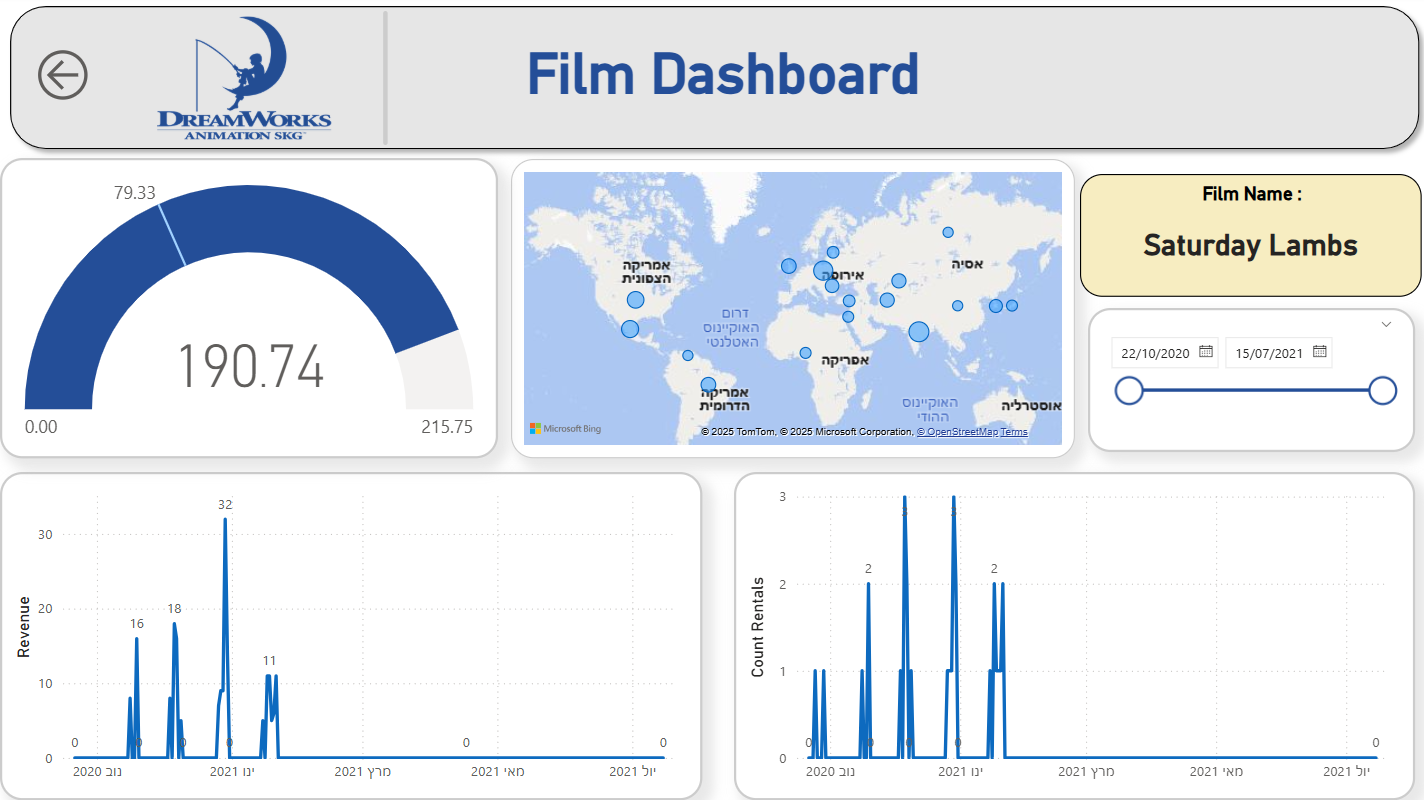

The dashboard page shown, as its layout file describes it:
{"tool":"powerbi","page":{"name":"Film Dashboard","canvas":[1280,720],"ordinal":1},"visuals":[{"type":"shape","box":[0,0,1280.5,146.3],"z":0},{"type":"textbox","box":[466.8,35.1,485.9,76.1],"z":1000},{"type":"shape","box":[319,13.2,52.7,120],"z":2000},{"type":"map","fields":{"Category":["dim_customer.dim_country.country"],"Size":["MSR.sum_sales Q.6"]},"box":[458,146.3,504.9,267.8],"z":3000},{"type":"card","title":"Film Name :","fields":{"Values":["Min(dim_film.film_title)"]},"box":[967.3,159.5,305.9,109.8],"z":4000},{"type":"slicer","fields":{"Values":["dim_date.full_date"]},"box":[974.6,279.5,292.7,128.8],"z":5000},{"type":"lineChart","fields":{"Y":["MSR.sum_sales_coalesce"],"Category":["dim_date.full_date"]},"box":[0,425.9,629.3,294.1],"z":6000},{"type":"gauge","fields":{"Y":["MSR.sum_sales Q.6"],"TargetValue":["MSR.target_gauge"],"MaxValue":["MSR.max_sales"]},"box":[0,144.9,446.3,269.3],"z":7000},{"type":"lineChart","fields":{"Category":["dim_date.full_date"],"Y":["MSR.count_renal_coalesce"]},"box":[657.1,425.9,610.2,294.1],"z":8000},{"type":"actionButton","box":[27.8,41,57.1,60],"z":9000},{"type":"image","box":[122.9,13.2,191.7,120],"z":10000}]}

Visuals, with their boxes in screenshot pixels (x1, y1, x2, y2), scaled from the page's 1280x720 canvas onto the 1424x800 screenshot:
shape: Rect(0, 0, 1423, 163)
textbox: Rect(519, 39, 1060, 124)
shape: Rect(355, 15, 414, 148)
map - dim_customer.dim_country.country x MSR.sum_sales Q.6: Rect(510, 163, 1071, 460)
"Film Name :" card: Rect(1076, 177, 1416, 299)
slicer - dim_date.full_date: Rect(1084, 311, 1410, 454)
lineChart - MSR.sum_sales_coalesce x dim_date.full_date: Rect(0, 473, 700, 799)
gauge - MSR.sum_sales Q.6 x MSR.target_gauge: Rect(0, 161, 497, 460)
lineChart - dim_date.full_date x MSR.count_renal_coalesce: Rect(731, 473, 1410, 799)
actionButton: Rect(31, 46, 94, 112)
image: Rect(137, 15, 350, 148)
